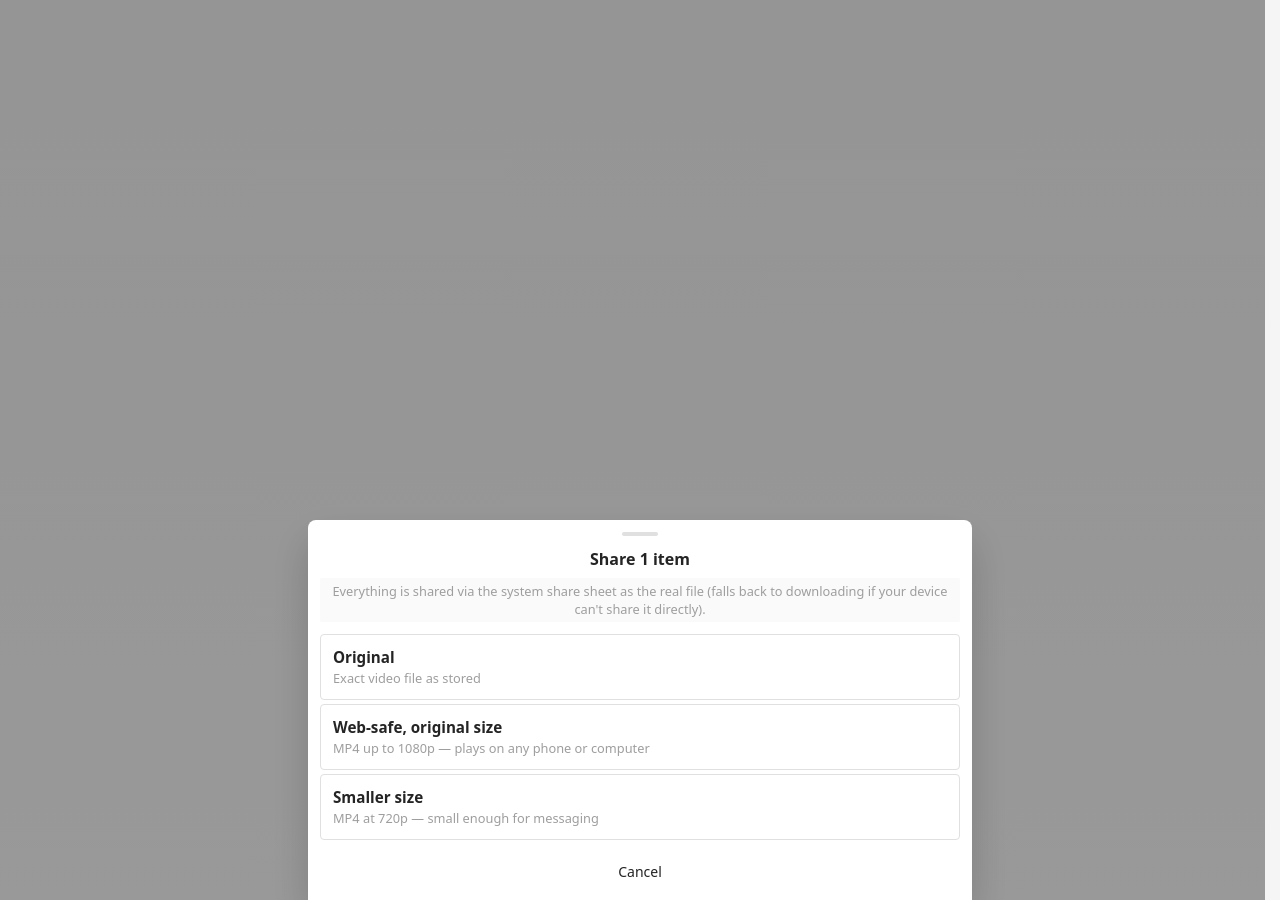
ShareOptionsModal › over the share sheet's limit › catches a converted video over 50 MB once it has been fetched
This screenshot has width=1280, height=900.
Click the button "Smaller size MP4 at 720p — small enough for messaging".
click(378, 797)  # box x1=320 y1=774 x2=960 y2=840
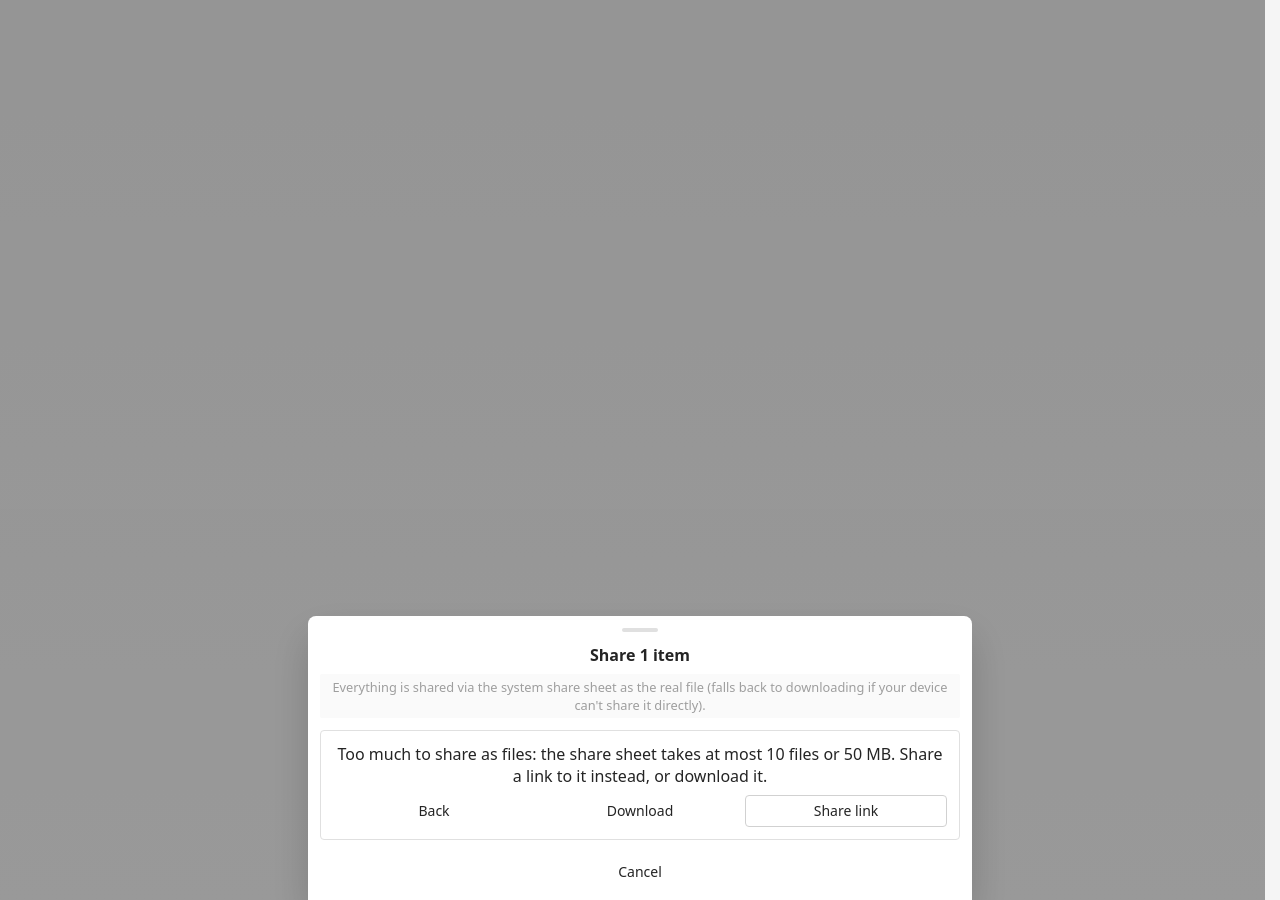
expect the button "Share link" is shown: met, box x1=745 y1=795 x2=947 y2=827
